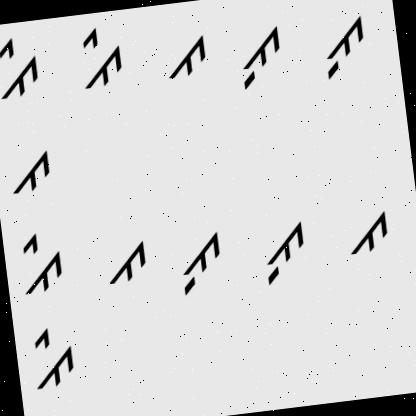ka: (2, 138, 57, 202), (344, 206, 399, 268), (162, 22, 212, 90), (102, 235, 154, 288)
ki: (68, 24, 130, 95), (28, 320, 84, 396), (13, 227, 68, 298), (0, 30, 49, 106)
ku: (311, 8, 374, 86), (230, 14, 288, 95), (170, 226, 230, 300), (253, 219, 314, 288)
